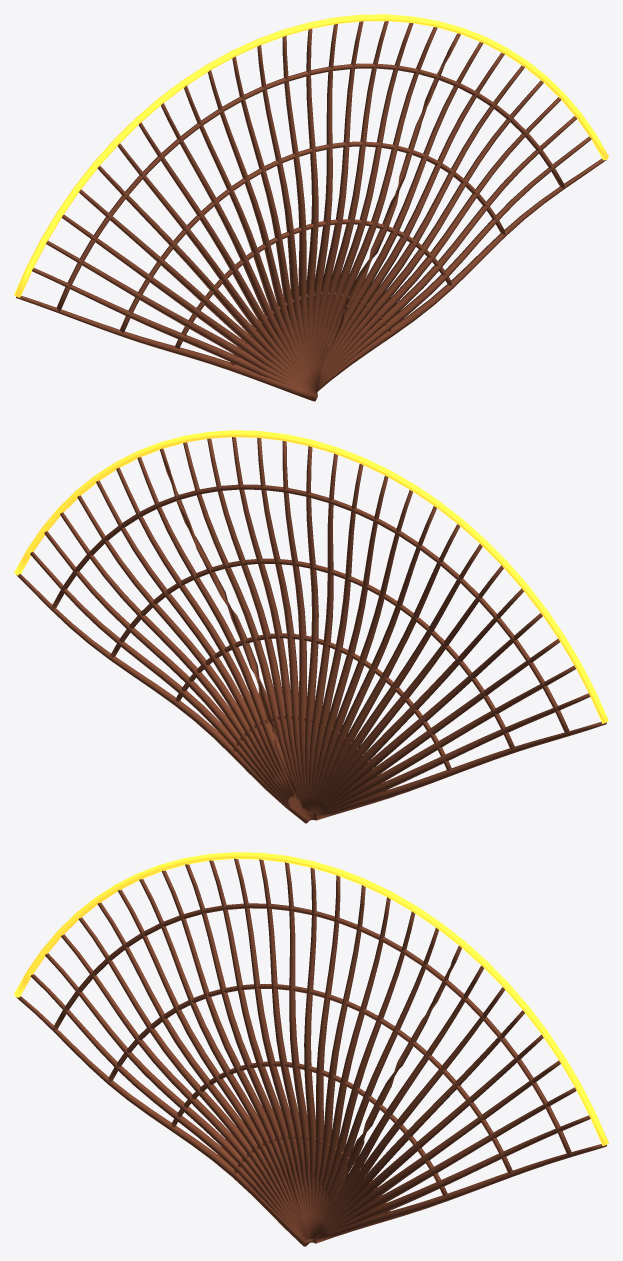
The model's file is SM_SeaFan.fbx.
3 views of the same model, one above another, from view 1: azimuth 30°, elevation 25°; view 2: azimuth 150°, elevation 25°; view 3: azimuth 330°, elevation 25° (orthographic).
Parts seen in each view (by area): view 1: SM_SeaFan.001; view 2: SM_SeaFan.001; view 3: SM_SeaFan.001.
Boxes of the visible parts, bbox=[...] form: SM_SeaFan.001: bbox=[14, 14, 608, 401]; SM_SeaFan.001: bbox=[14, 430, 608, 823]; SM_SeaFan.001: bbox=[14, 852, 608, 1246].
Size of the model in its own units: 351 by 11.53 by 214.
